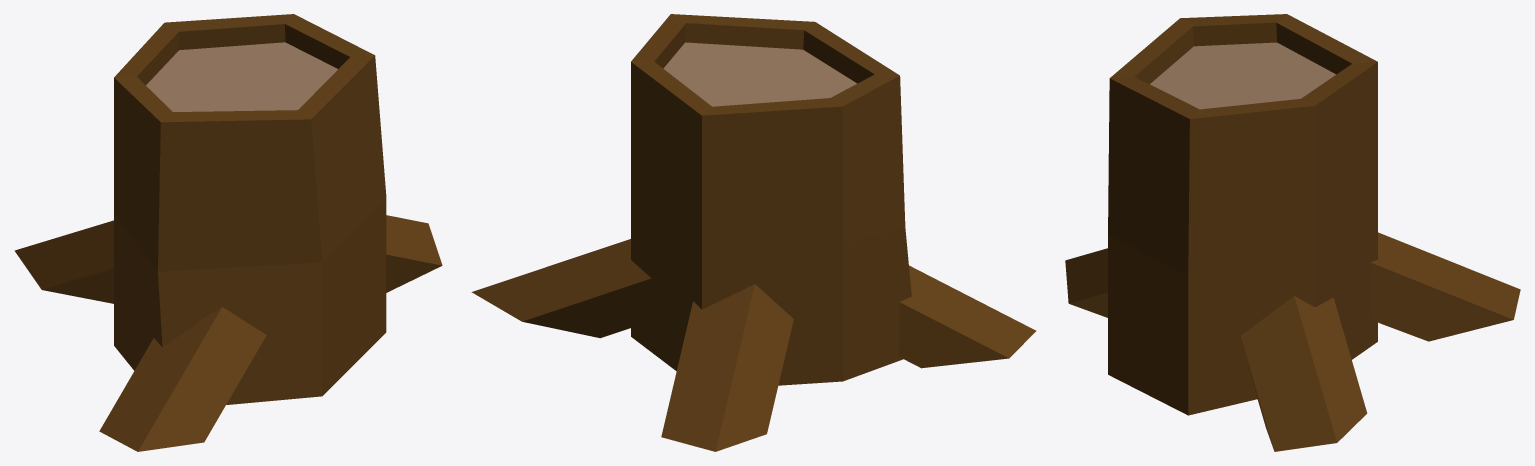
The model's file is stump.fbx.
The picture shows the model from 3 angles, left to right: view 1: azimuth 30°, elevation 25°; view 2: azimuth 150°, elevation 25°; view 3: azimuth 270°, elevation 25°; orthographic projection. The views are drawn at different scales.
Visible parts, largest first — view 1: Cylinder; view 2: Cylinder; view 3: Cylinder.
Part boxes in pixels (x1=…): Cylinder: x1=14, y1=14, x2=442, y2=451; Cylinder: x1=471, y1=14, x2=1036, y2=451; Cylinder: x1=1065, y1=14, x2=1520, y2=451.
Size of the model in its own units: 198 by 132 by 175.
